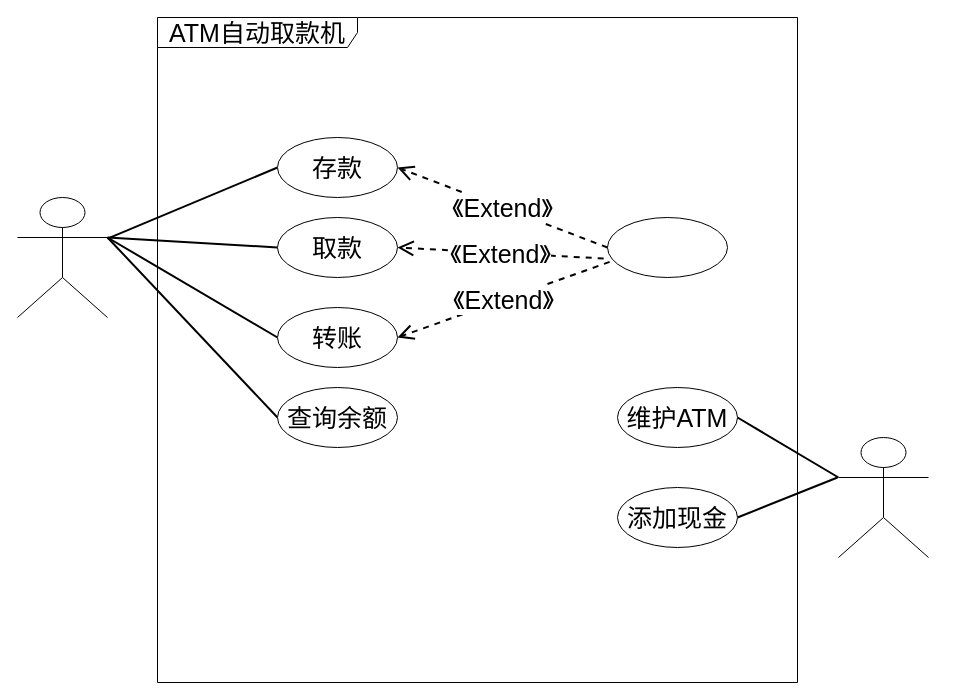
The diagram is 964 pixels wide and 700 high, and some of its shapes have lost their labels. Each missing label, with the box of its shape:
ATM管理员: (838, 436, 928, 558)
客户: (16, 196, 108, 318)
打印凭条: (606, 216, 728, 278)
